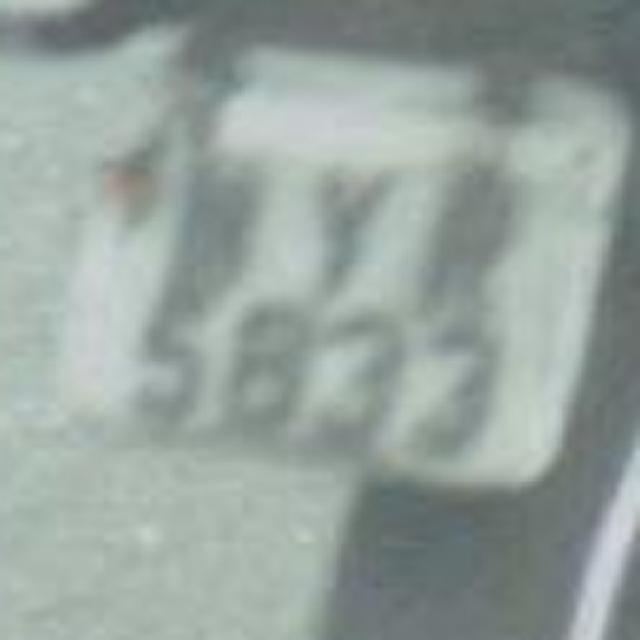3: (380, 304, 528, 468)
5: (92, 280, 236, 452)
8: (192, 284, 336, 456)
B: (396, 136, 524, 312), (148, 136, 272, 312)
Y: (276, 144, 396, 304)
